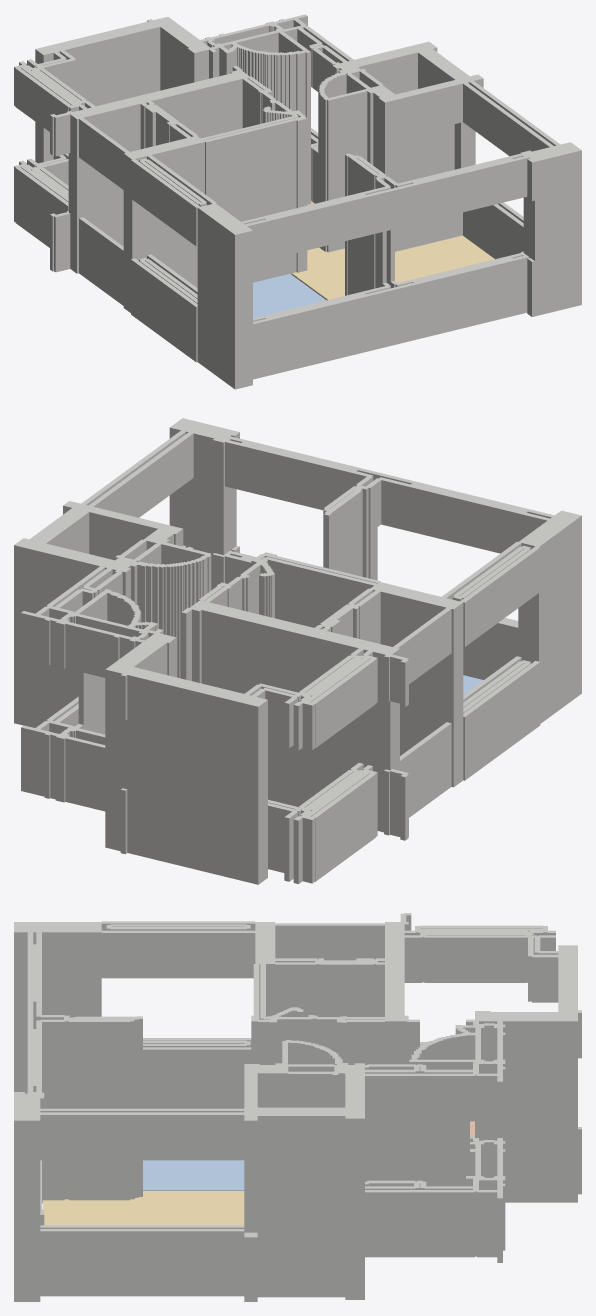
3 views of the same model, one above another, from view 1: azimuth 30°, elevation 25°; view 2: azimuth 150°, elevation 25°; view 3: azimuth 270°, elevation 25° (orthographic). The views are drawn at different scales.
Parts seen in each view (by area): view 1: walls, room:living:6, room:bedroom:5; view 2: walls; view 3: walls, room:living:6, room:bedroom:5.
Part boxes in pixels (box(x1,y1,x2,y2)): walls: box(14, 14, 581, 389); room:living:6: box(291, 235, 494, 300); room:bedroom:5: box(253, 274, 326, 318); walls: box(14, 418, 581, 884); walls: box(14, 913, 581, 1301); room:living:6: box(42, 1191, 244, 1225); room:bedroom:5: box(143, 1160, 244, 1190).
Bounding box in the file's own units: 6.87 × 2.8 × 7.95.
